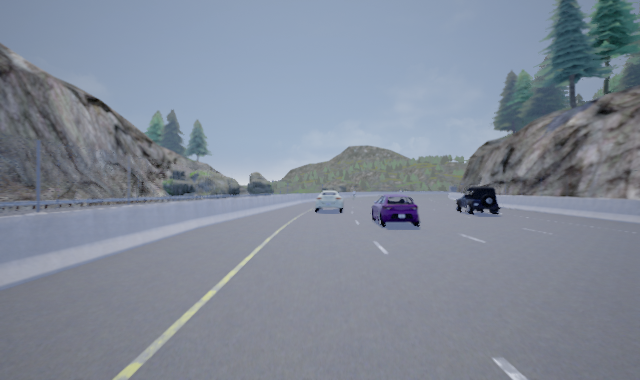vehicle: (369, 193, 423, 228), (453, 186, 503, 216), (313, 190, 344, 213)
